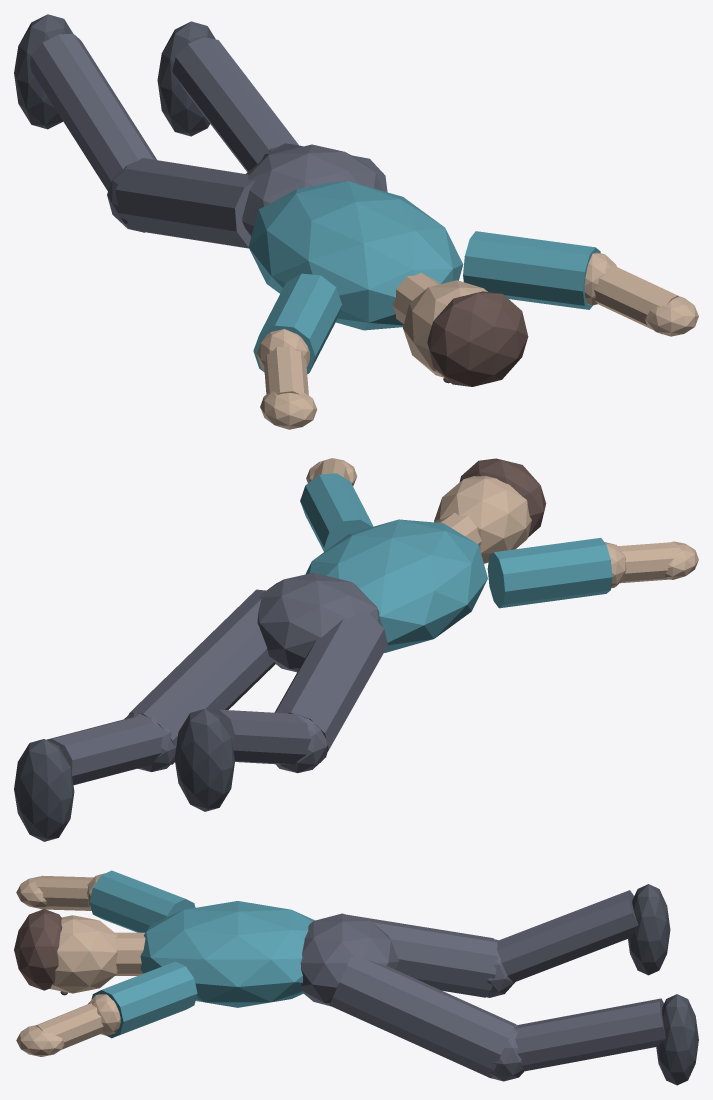
The picture shows the model from 3 angles, top to bottom: view 1: azimuth 30°, elevation 25°; view 2: azimuth 150°, elevation 25°; view 3: azimuth 270°, elevation 25°; orthographic projection. The views are drawn at different scales.
Parts seen in each view (by area): view 1: world; view 2: world; view 3: world.
Part boxes in pixels (x1,y1,x2,y2): world: (14,14,698,429); world: (14,458,698,841); world: (14,870,698,1085).
Bounding box in the file's own units: 1.17 × 0.4556 × 2.04.
